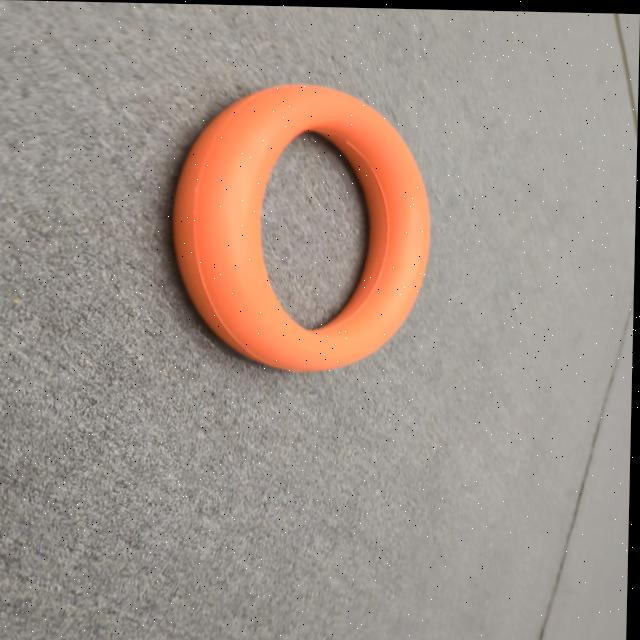note: (163, 86, 427, 370)
